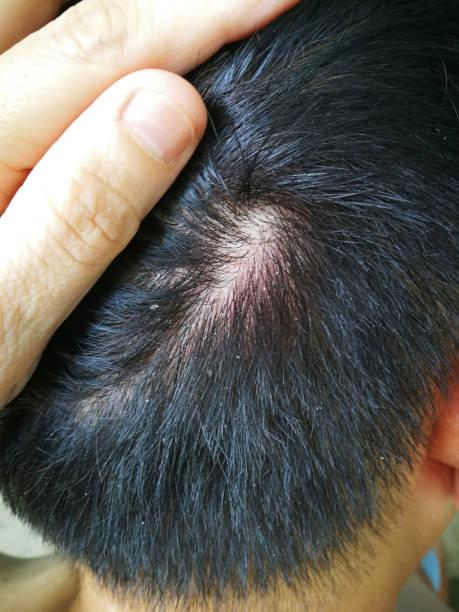dandruff: (285, 299, 317, 329), (427, 122, 454, 146), (138, 294, 163, 317), (225, 349, 250, 371), (72, 482, 92, 507), (127, 513, 156, 530), (198, 360, 218, 382), (305, 401, 332, 415), (263, 544, 284, 558), (377, 448, 383, 465)
